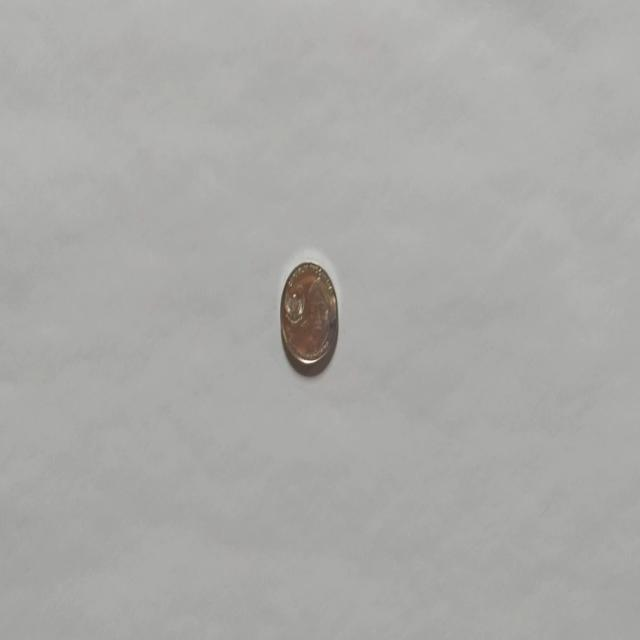dua ratus rupiah: (278, 258, 338, 376)
